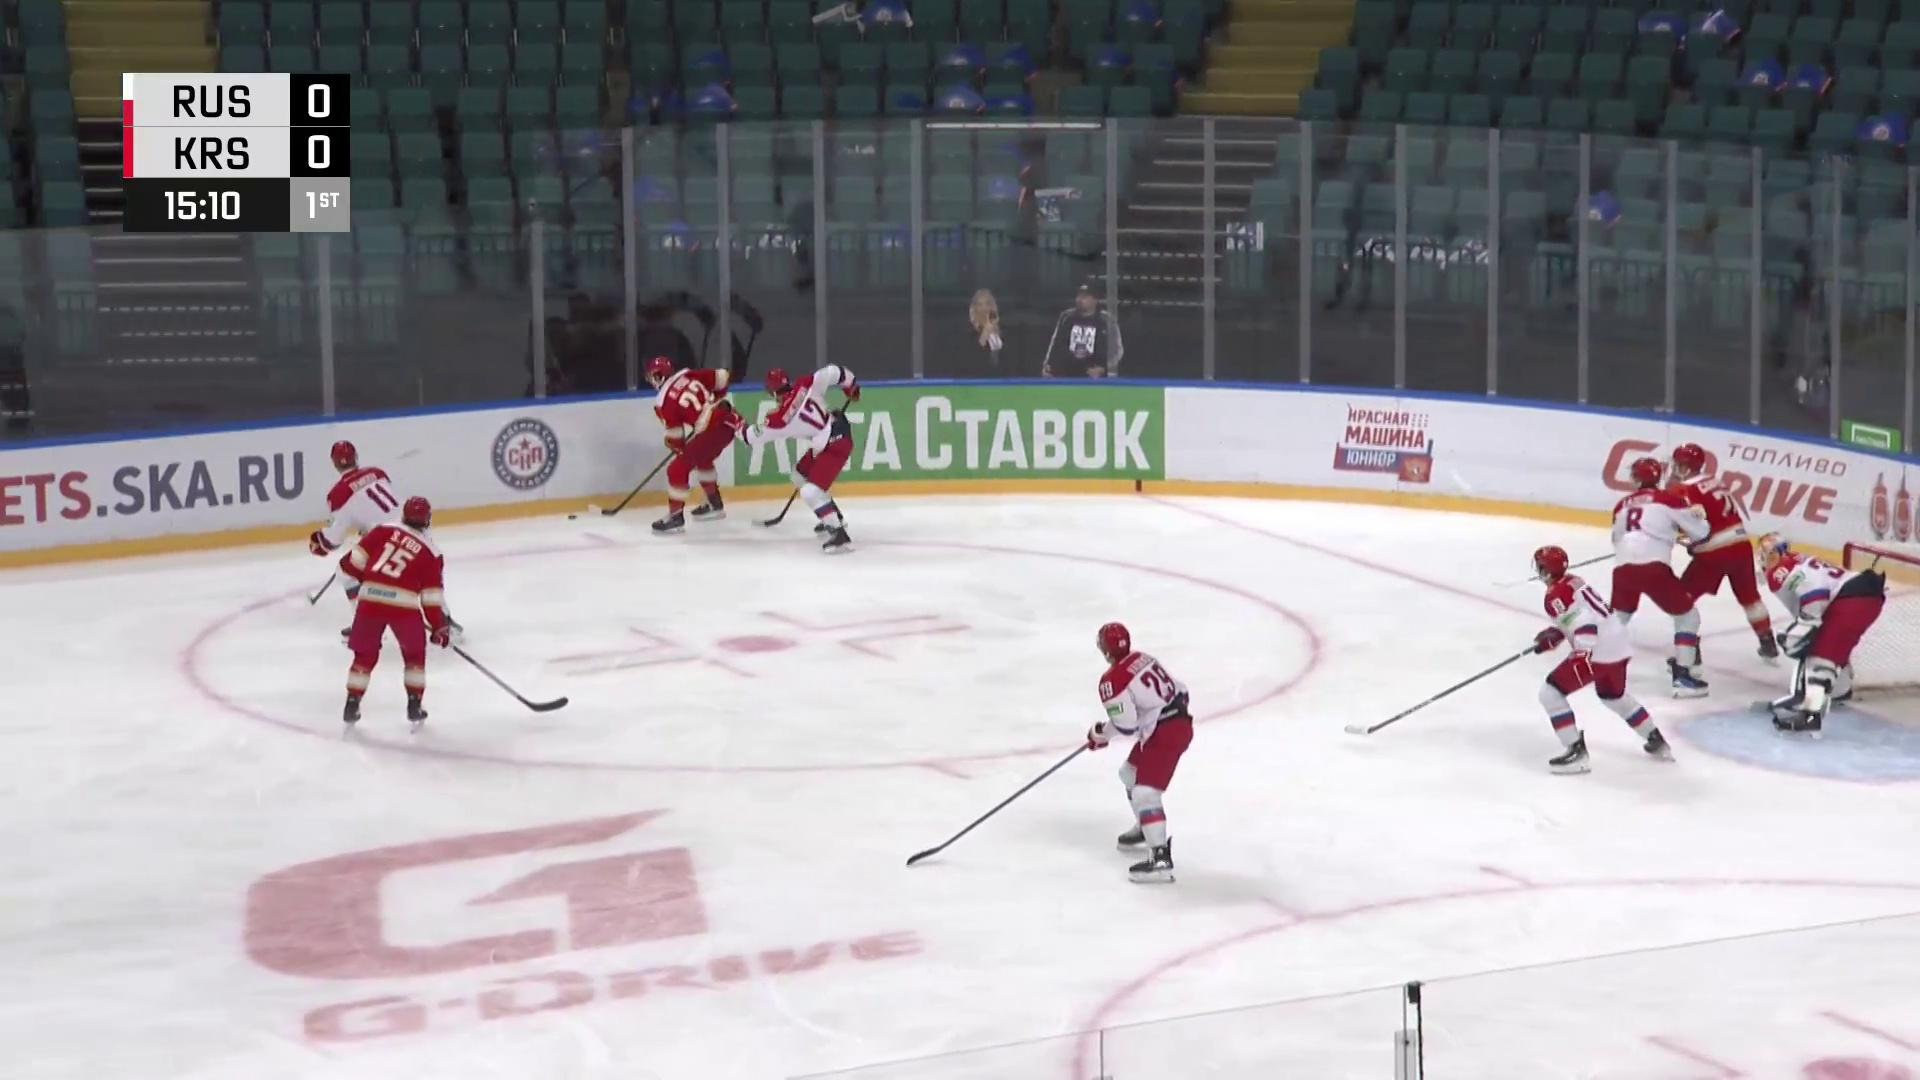ball: (566, 513, 579, 524)
